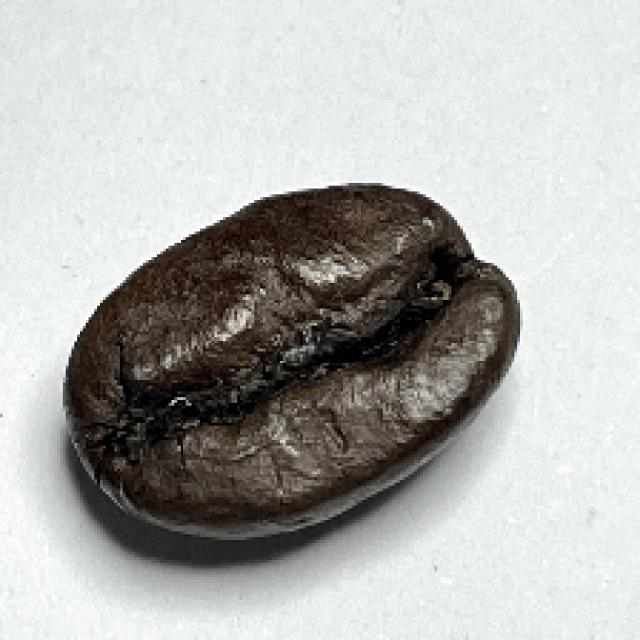bean: (57, 175, 522, 544)
